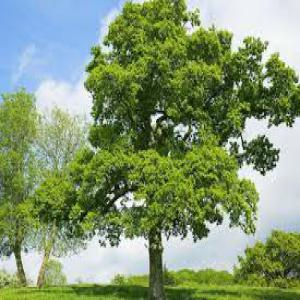Tree: (76, 0, 298, 297)
